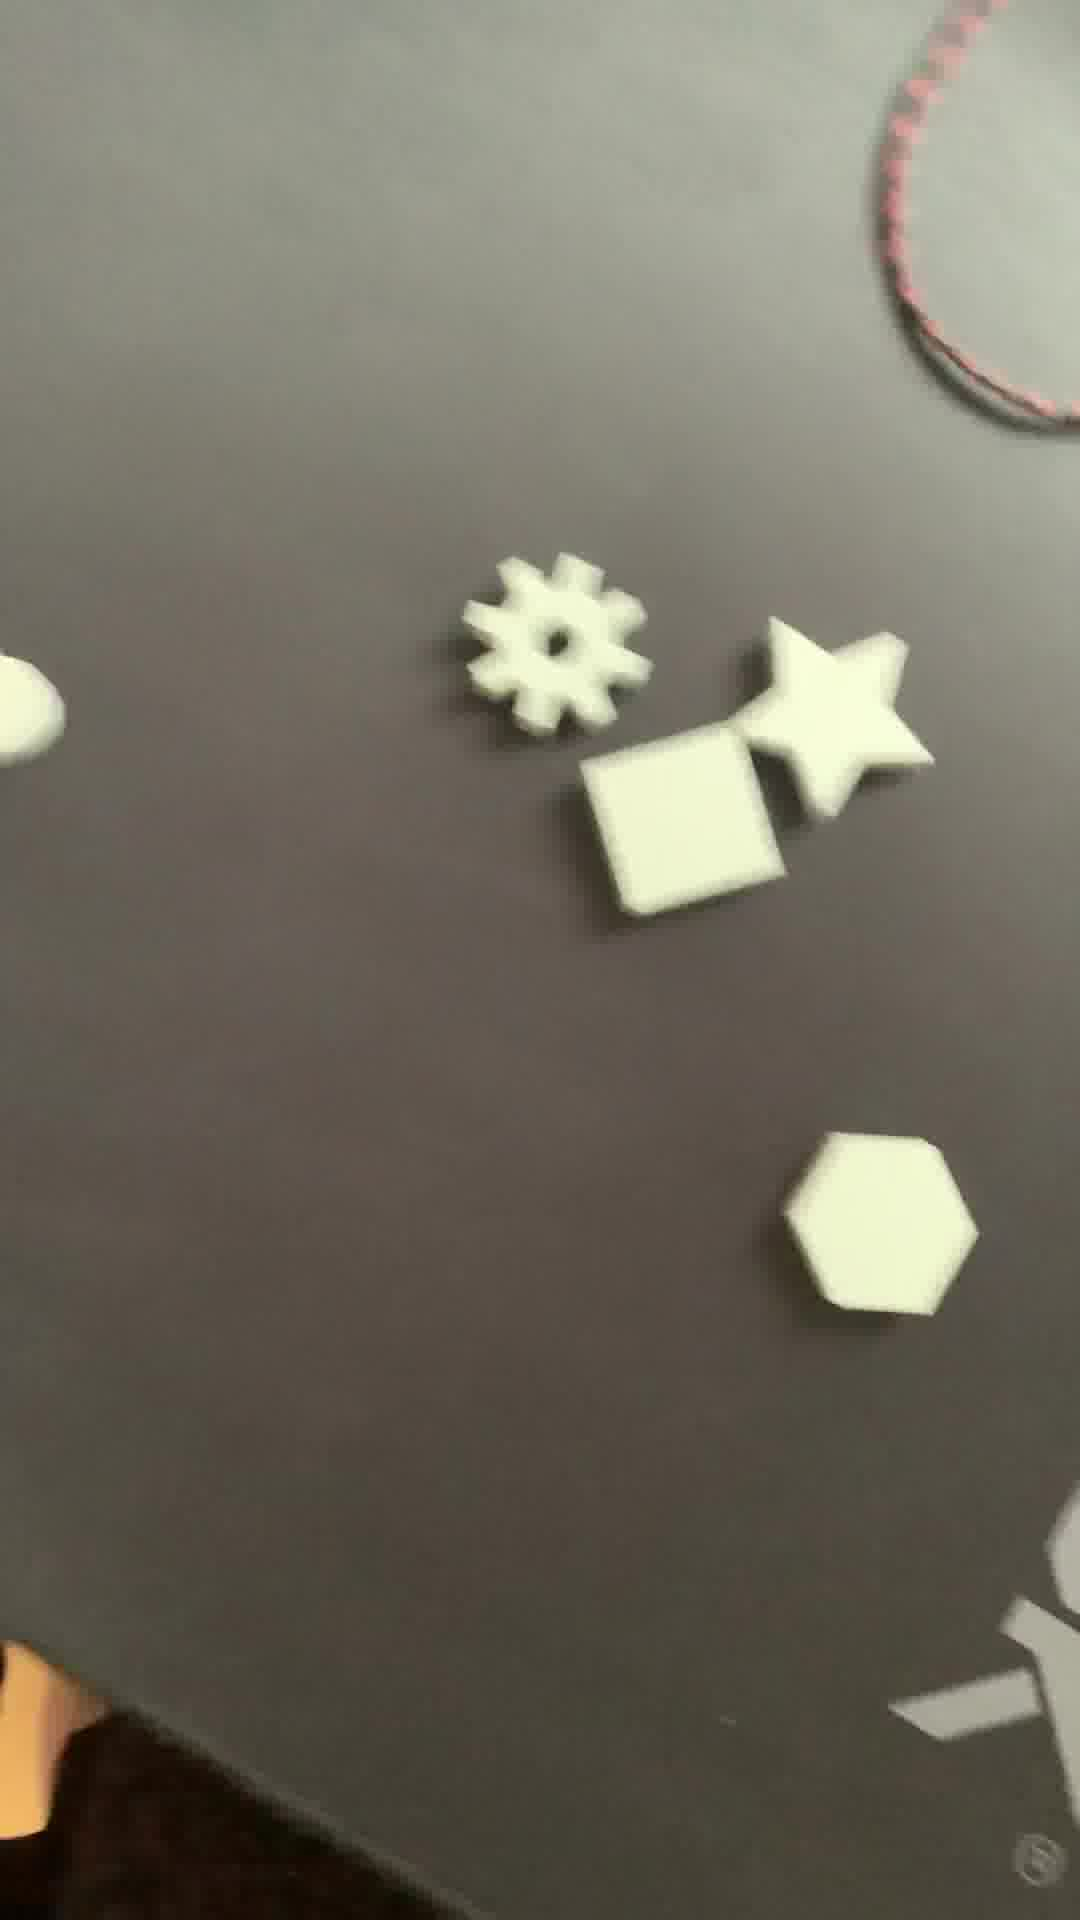Gray gear: (480, 546, 645, 728)
Gray hexagon: (786, 1124, 984, 1340)
Gray square: (580, 723, 774, 918)
Gray star: (707, 620, 935, 836)
